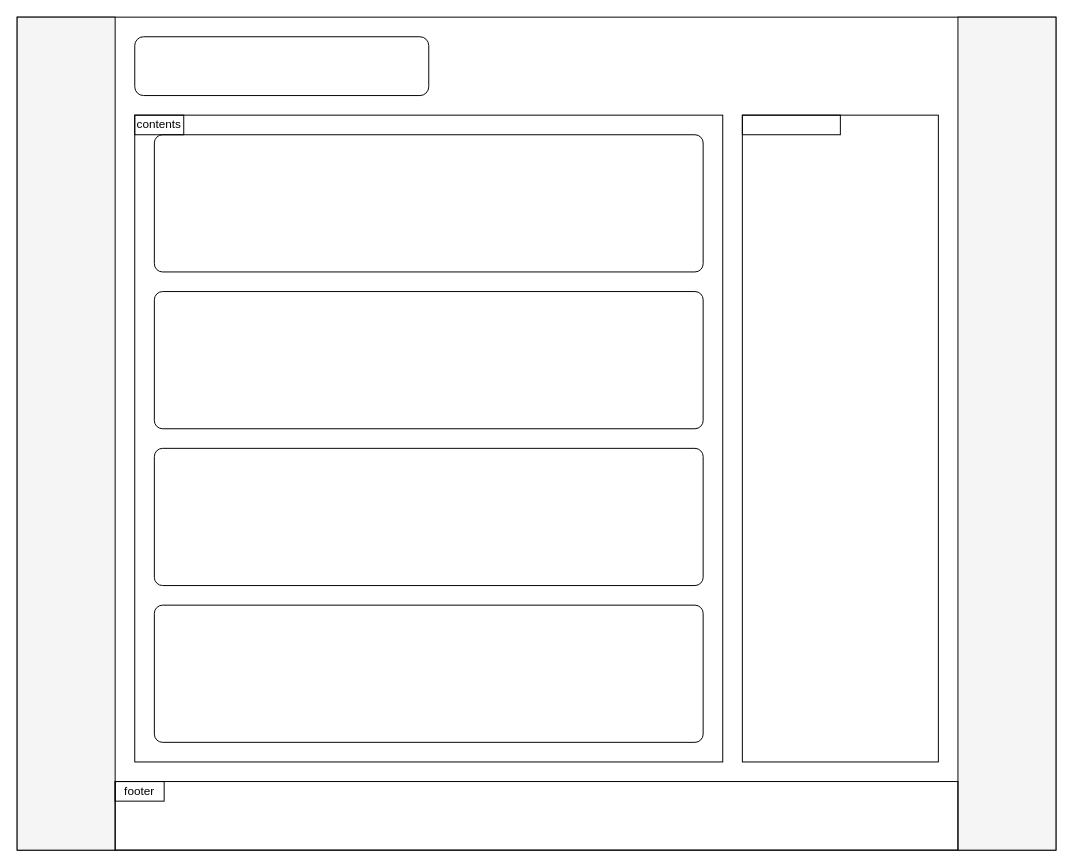
Some shapes in this 1073 by 867 pixel diagram are drawn without their labels. Here are the shapes that lost their labels. From the top down, the centre of each, then its label:
At pixel 281 66: "はかなや's HomePage".
At pixel 790 124: "navigation menu".
